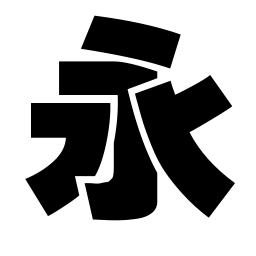D: (80, 15, 137, 52)
HSZ: (111, 59, 134, 105)
Hs: (56, 58, 103, 97)
Ne: (190, 166, 238, 220)
PNc: (160, 90, 193, 144)
PZe: (23, 172, 59, 218)
Ps: (202, 70, 235, 115)
SG: (83, 176, 162, 224)
Sm: (114, 117, 141, 160)
TPZ: (62, 101, 110, 146)
Ts: (28, 100, 52, 141)
